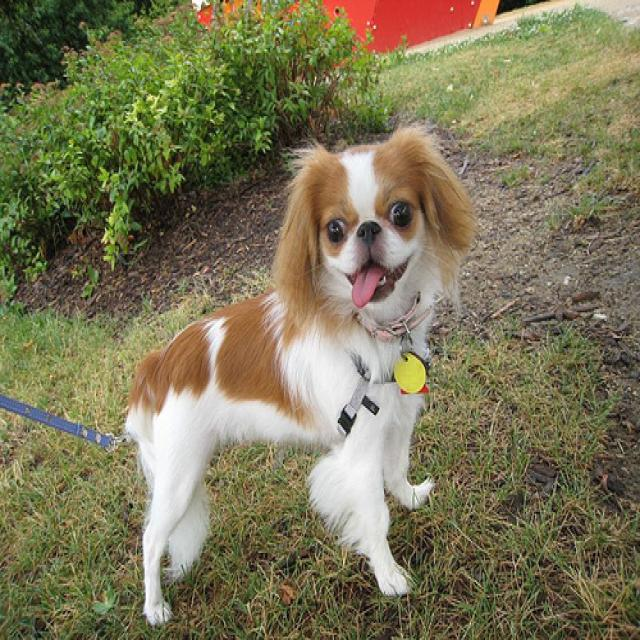dog-japanese_chin: (115, 118, 488, 637)
